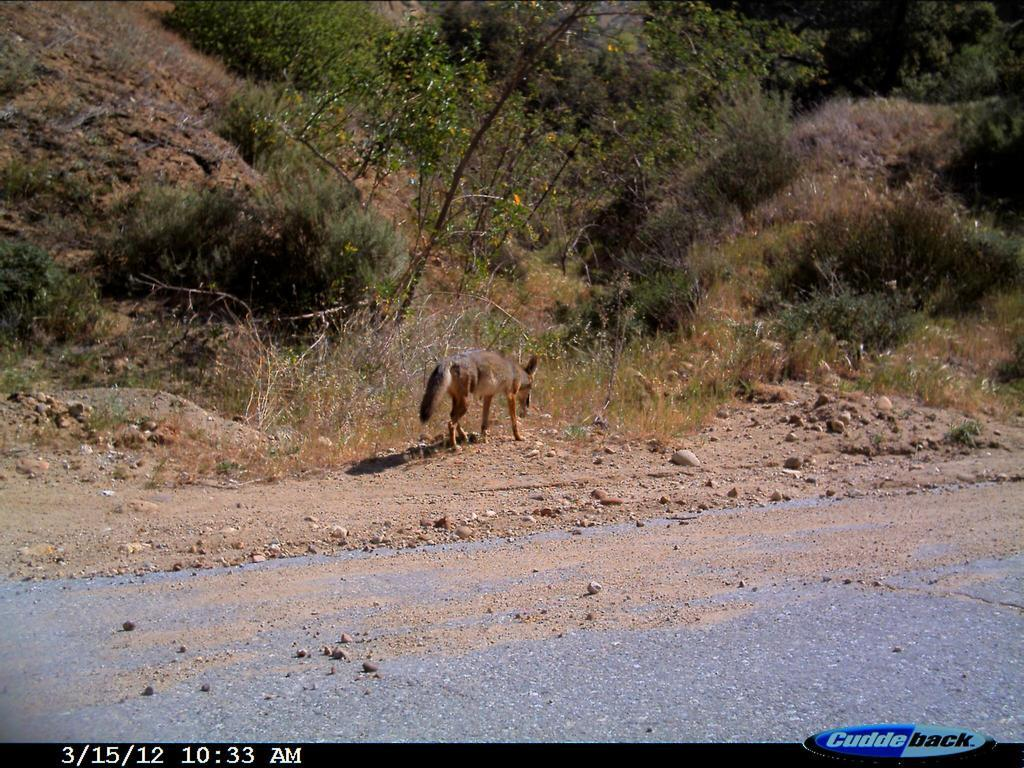coyote: (415, 338, 552, 461)
